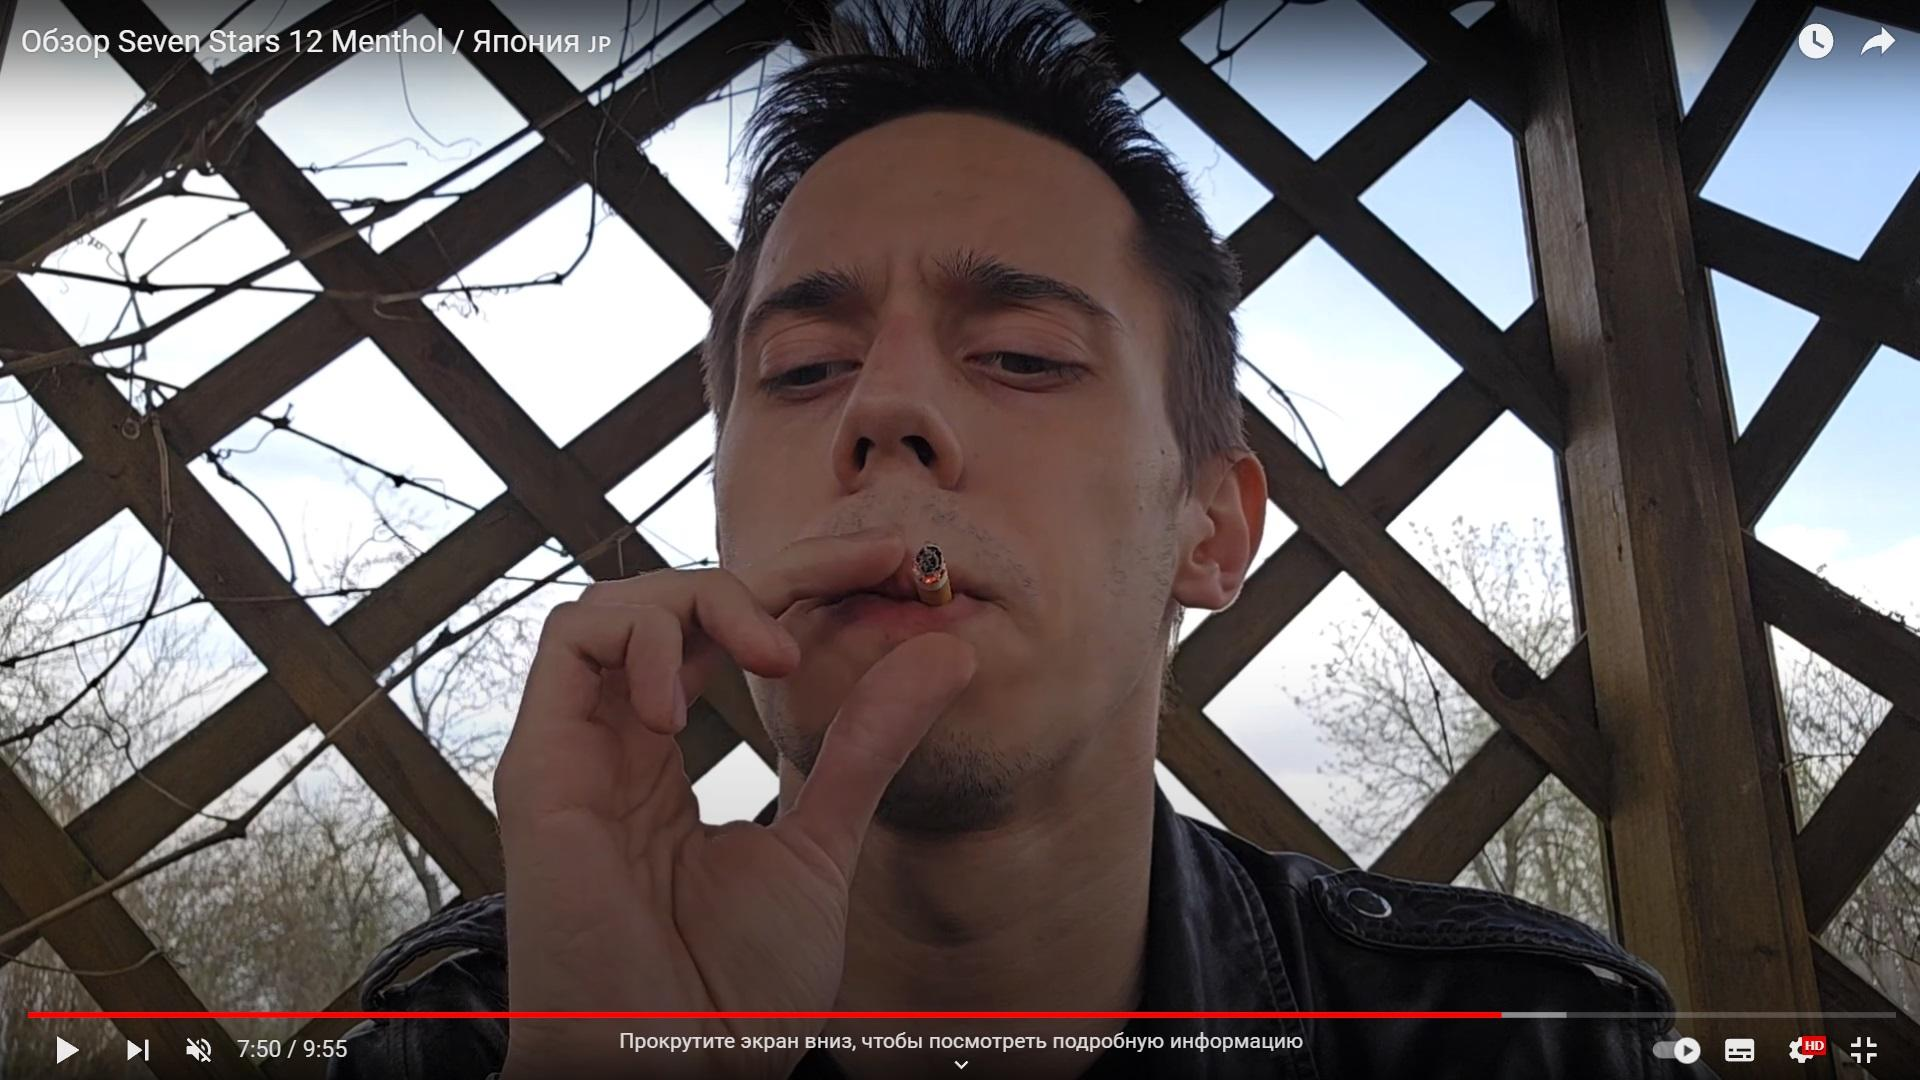cigarette: (915, 543, 952, 608)
